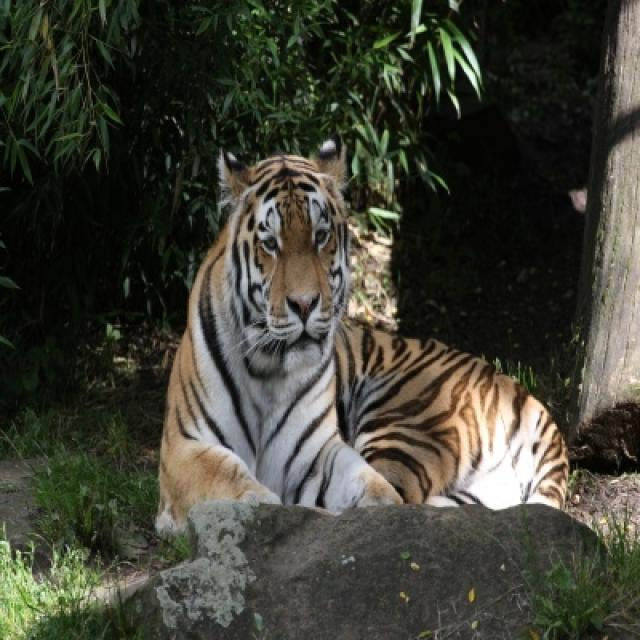Tiger: (153, 135, 570, 521)
